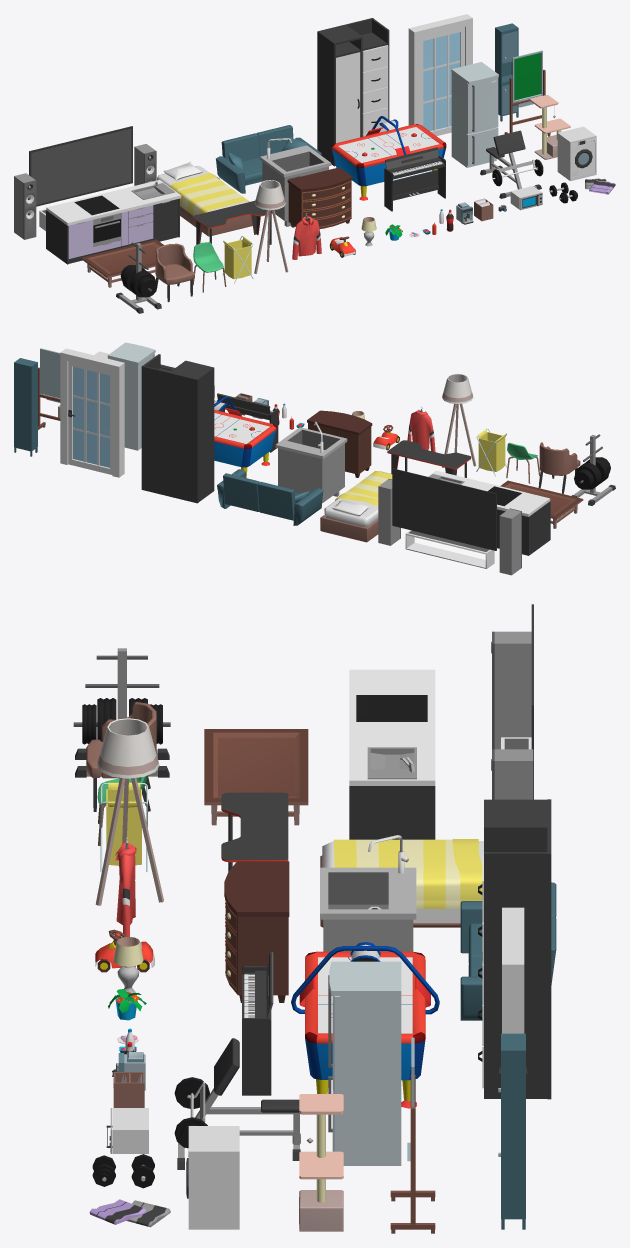
Rendered from furniture.glb.
3 views of the same model, one above another, from view 1: azimuth 30°, elevation 25°; view 2: azimuth 150°, elevation 25°; view 3: azimuth 270°, elevation 25° (orthographic). The views are drawn at different scales.
Parts seen in each view (by area): view 1: closet_001, tv_wall_001, kitchen_table_001, fridge_001, air_hockey_001, door_001, bed_001, dresser_001, sofa_001, musical_instrument_001, door_frame_001, kitchen_sink_001 (+14 smaller); view 2: tv_wall_001, closet_001, door_001, kitchen_sink_001, sofa_001, air_hockey_001, door_frame_001, bed_001, kitchen_table_001, fridge_001, dresser_001, closet_002 (+11 smaller); view 3: closet_001, kitchen_table_001, fridge_001, air_hockey_001, kitchen_sink_001, bed_001, dresser_001, coffee_table_001, tv_wall_001, washing_machine_001, lamp_002, closet_002 (+16 smaller).
Part boxes in pixels (left/top/right/bottom): closet_001: left=317, top=18, right=389, bottom=166; tv_wall_001: left=14, top=126, right=156, bottom=239; kitchen_table_001: left=46, top=179, right=181, bottom=264; fridge_001: left=451, top=62, right=498, bottom=167; air_hockey_001: left=331, top=116, right=446, bottom=200; door_001: left=421, top=26, right=464, bottom=136; bed_001: left=157, top=161, right=252, bottom=236; dresser_001: left=287, top=167, right=352, bottom=228; sofa_001: left=216, top=125, right=321, bottom=193; musical_instrument_001: left=384, top=147, right=445, bottom=211; door_frame_001: left=408, top=14, right=472, bottom=125; kitchen_sink_001: left=260, top=138, right=331, bottom=226; tv_wall_001: left=378, top=468, right=521, bottom=575; closet_001: left=141, top=354, right=214, bottom=503; door_001: left=68, top=361, right=112, bottom=474; kitchen_sink_001: left=275, top=421, right=347, bottom=509; sofa_001: left=217, top=469, right=323, bottom=525; air_hockey_001: left=214, top=396, right=276, bottom=478; door_frame_001: left=60, top=348, right=124, bottom=477; bed_001: left=320, top=471, right=392, bottom=542; kitchen_table_001: left=428, top=470, right=550, bottom=555; fridge_001: left=107, top=342, right=155, bottom=450; dresser_001: left=307, top=410, right=372, bottom=477; closet_002: left=14, top=358, right=37, bottom=456; closet_001: left=478, top=799, right=551, bottom=1099; kitchen_table_001: left=349, top=669, right=435, bottom=839; fridge_001: left=328, top=961, right=401, bottom=1165; air_hockey_001: left=291, top=942, right=439, bottom=1108; kitchen_sink_001: left=320, top=835, right=416, bottom=951; bed_001: left=320, top=839, right=483, bottom=927; dresser_001: left=224, top=861, right=289, bottom=1002; coffee_table_001: left=204, top=729, right=308, bottom=825; tv_wall_001: left=491, top=604, right=533, bottom=799; washing_machine_001: left=186, top=1126, right=239, bottom=1229; lamp_002: left=95, top=718, right=163, bottom=905; closet_002: left=498, top=1033, right=525, bottom=1229.
Bounding box in the file's own units: 11.48 × 2.94 × 4.79.
Materials: 1 (1 with a texture image).
